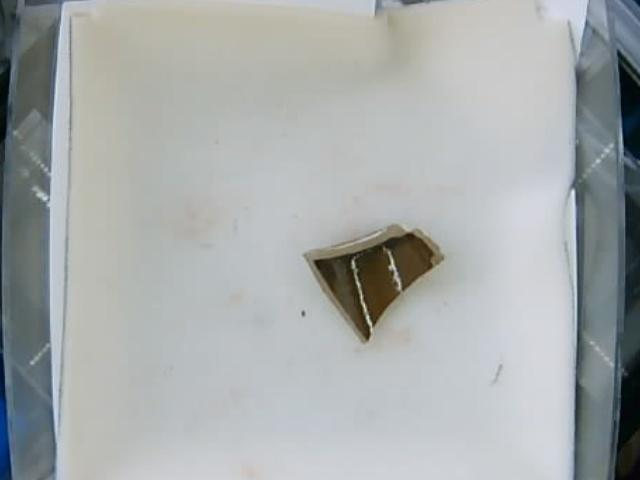China: (303, 220, 445, 341)
